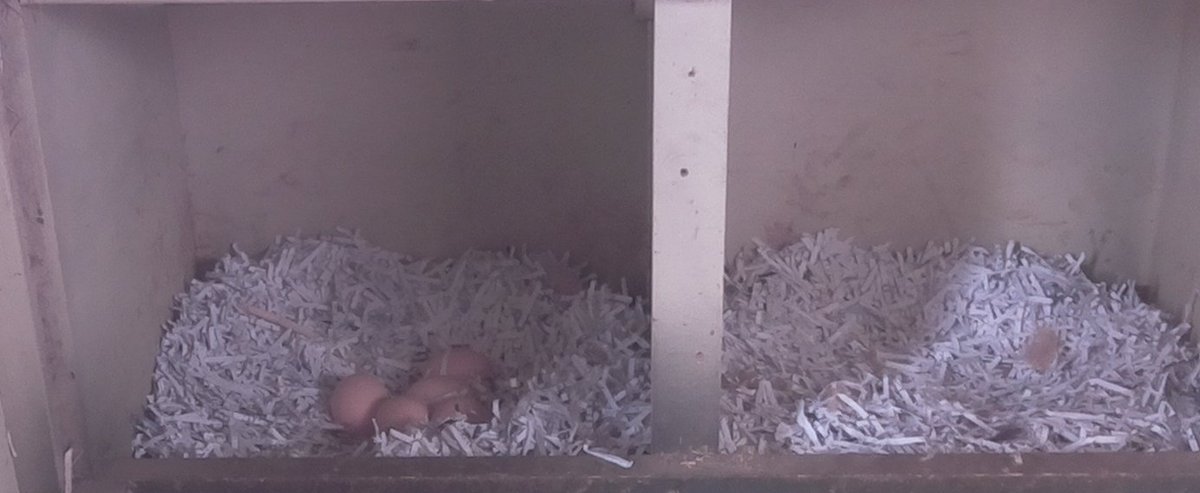egg: (320, 368, 391, 432), (418, 343, 510, 390), (372, 390, 433, 438), (429, 393, 497, 433), (401, 372, 483, 405)
